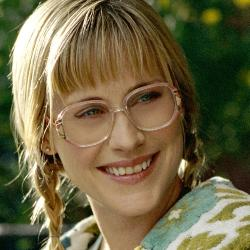face: (7, 4, 211, 227)
